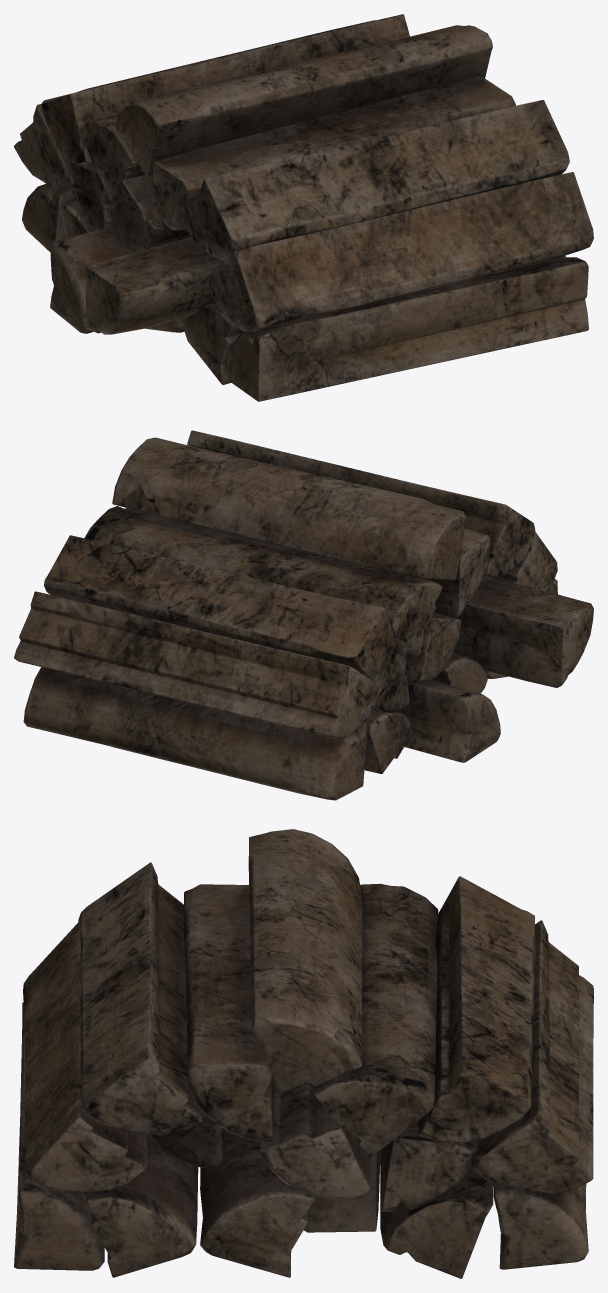
The model's file is SM_LogsMerged.fbx.
3 views of the same model, one above another, from view 1: azimuth 30°, elevation 25°; view 2: azimuth 150°, elevation 25°; view 3: azimuth 270°, elevation 25° (orthographic). The views are drawn at different scales.
Parts seen in each view (by area): view 1: SM_LogsMerged_LOD0; view 2: SM_LogsMerged_LOD0; view 3: SM_LogsMerged_LOD0.
Boxes of the visible parts, left/top/right/bottom form: SM_LogsMerged_LOD0: left=14, top=14, right=593, bottom=401; SM_LogsMerged_LOD0: left=14, top=430, right=593, bottom=800; SM_LogsMerged_LOD0: left=14, top=829, right=593, bottom=1278.
Size of the model in its own units: 74.7 by 74.99 by 37.52.
